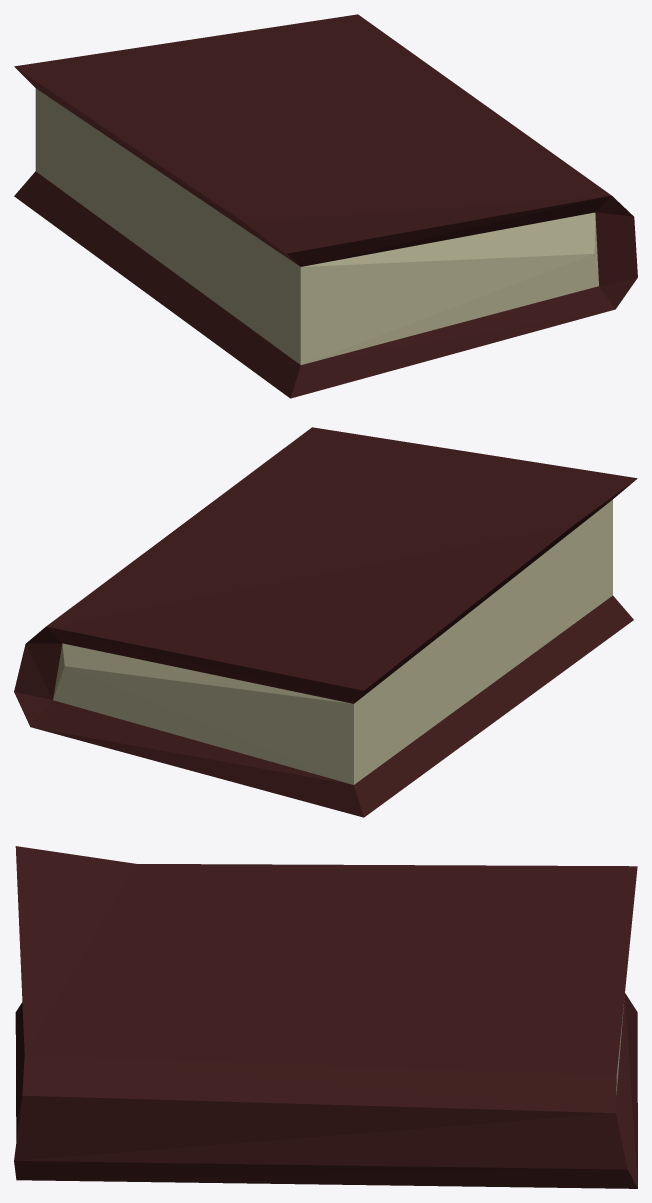
The model's file is Book_Closed_Red.fbx.
3 renders of one model, top to bottom at view 1: azimuth 30°, elevation 25°; view 2: azimuth 150°, elevation 25°; view 3: azimuth 270°, elevation 25°, orthographic. The views are drawn at different scales.
Visible parts, largest first — view 1: Book_Closed_Red; view 2: Book_Closed_Red; view 3: Book_Closed_Red.
Boxes of the visible parts, <box> form: Book_Closed_Red: <box>14,14,637,398</box>; Book_Closed_Red: <box>14,427,637,817</box>; Book_Closed_Red: <box>14,846,637,1188</box>.
Bounding box in the file's own units: 72.55 × 27.59 × 95.1.
